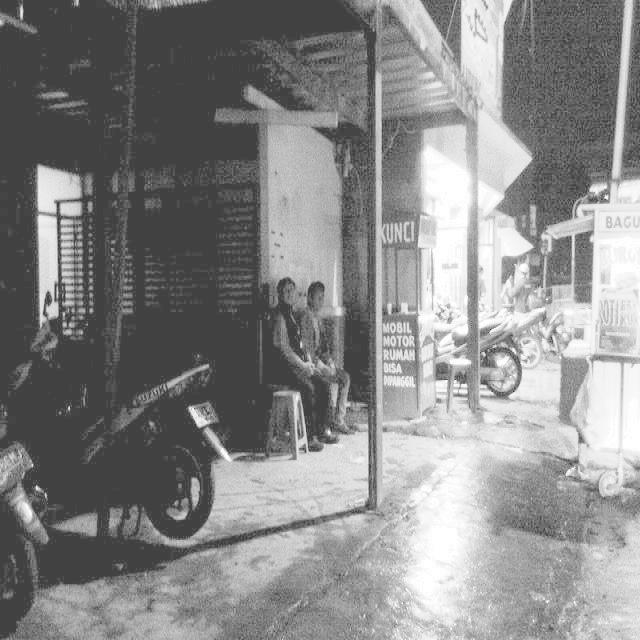Motorcycle: (18, 289, 215, 555), (425, 287, 528, 420), (0, 430, 50, 591), (484, 277, 550, 364)
Person: (272, 273, 328, 460)
